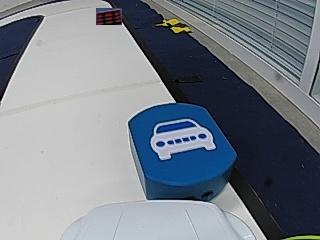safety: (150, 118, 217, 159)
